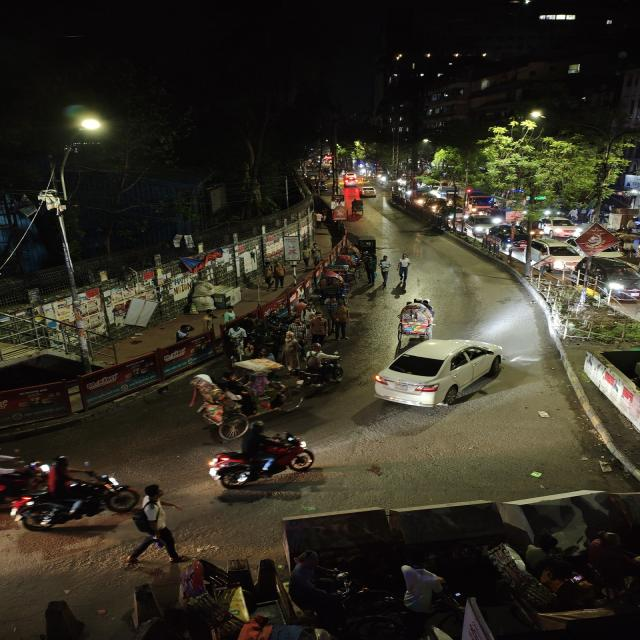car: (378, 333, 510, 410), (582, 254, 640, 304), (541, 240, 574, 270), (546, 215, 583, 238), (464, 215, 498, 238), (358, 186, 382, 200), (342, 176, 360, 186)
motorcycle: (0, 460, 147, 527), (193, 428, 329, 488), (292, 346, 353, 394)
pedestrian: (126, 484, 182, 576), (372, 253, 397, 289), (394, 254, 416, 288)
rickshaw: (178, 358, 310, 436), (388, 300, 444, 342), (351, 197, 366, 218)
truck: (461, 190, 496, 216)
